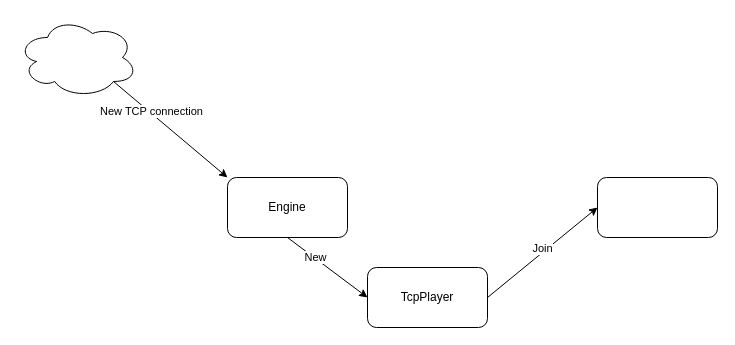
Image size: 735x345. Some labels were removed from this diagram. The centre of each missing label's shape, as x and y in pixels:
Internet: the point at 77,57
Session: the point at 657,207
